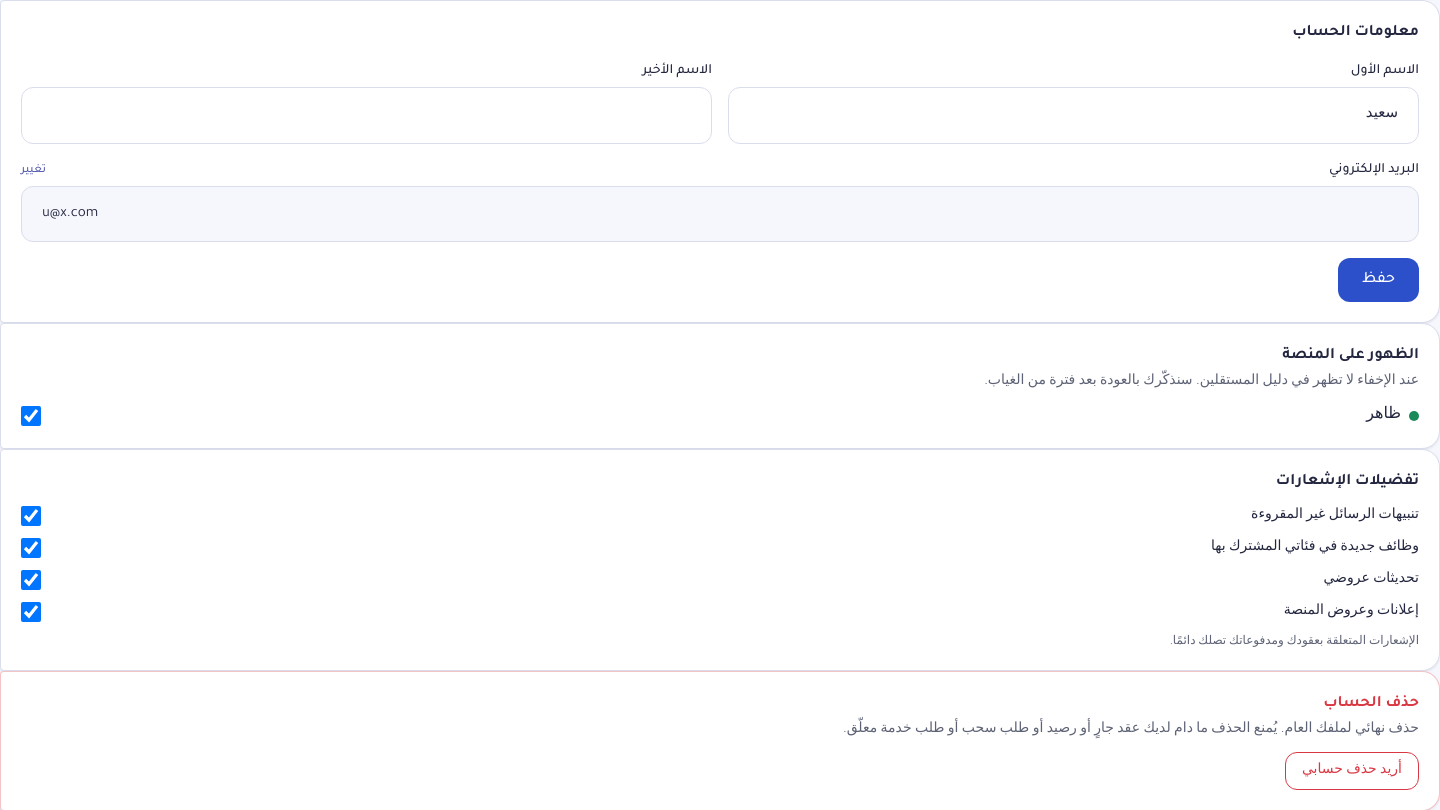
SettingsPage › gates the email-change send button on a valid email shape
Click the button "تغيير": click(34, 170) [21,162,46,178]
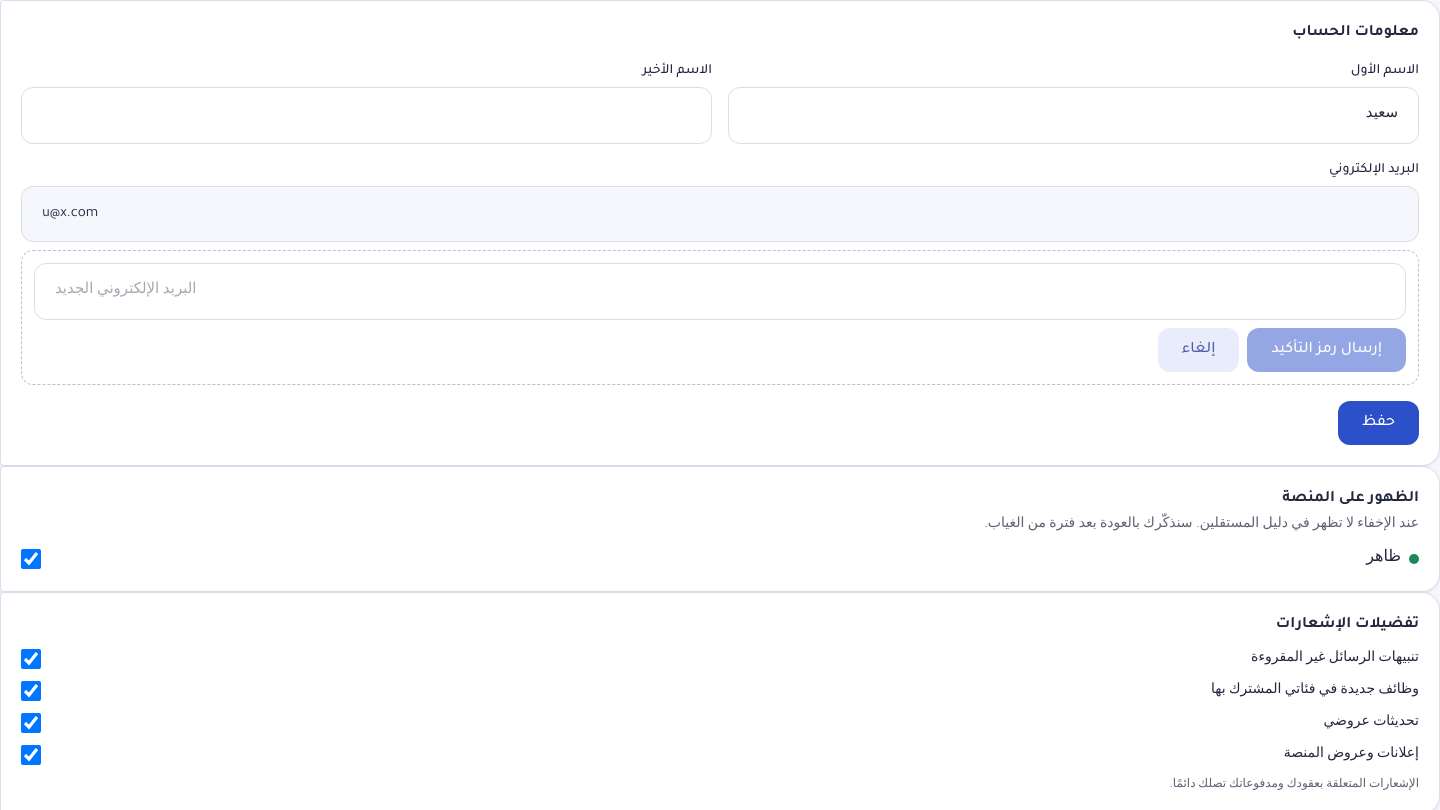
Expected: the button "إرسال رمز التأكيد" is disabled, [1247,328,1406,372]
In the field labelled "البريد الإلكتروني الجديد": (720, 291) [34,263,1406,320], type "not-an-email"
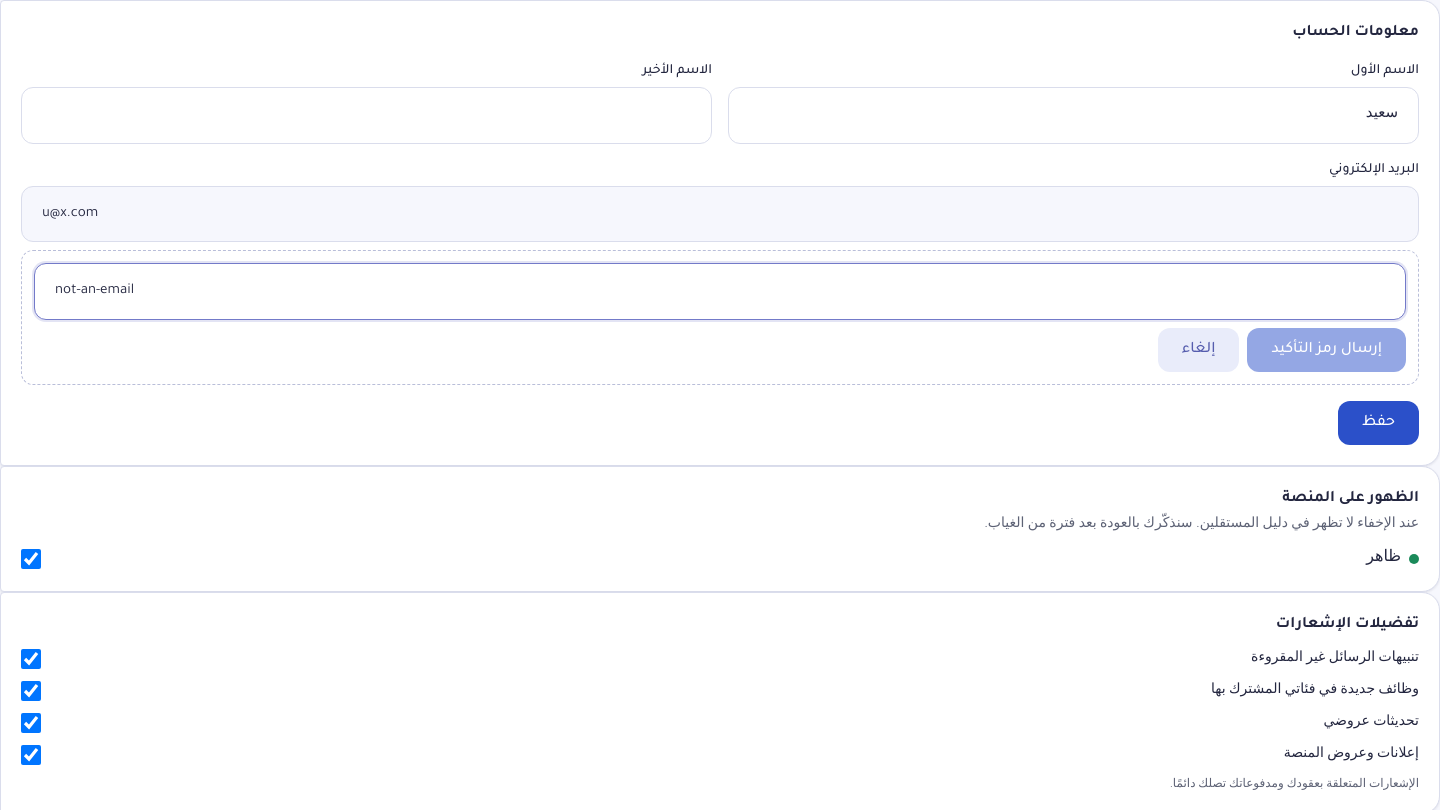
Expected: the button "إرسال رمز التأكيد" is disabled, [1247,328,1406,372]
Replace the text in the field named "البريد الإلكتروني الجديد" with "new@example.com": (720, 291) [34,263,1406,320]
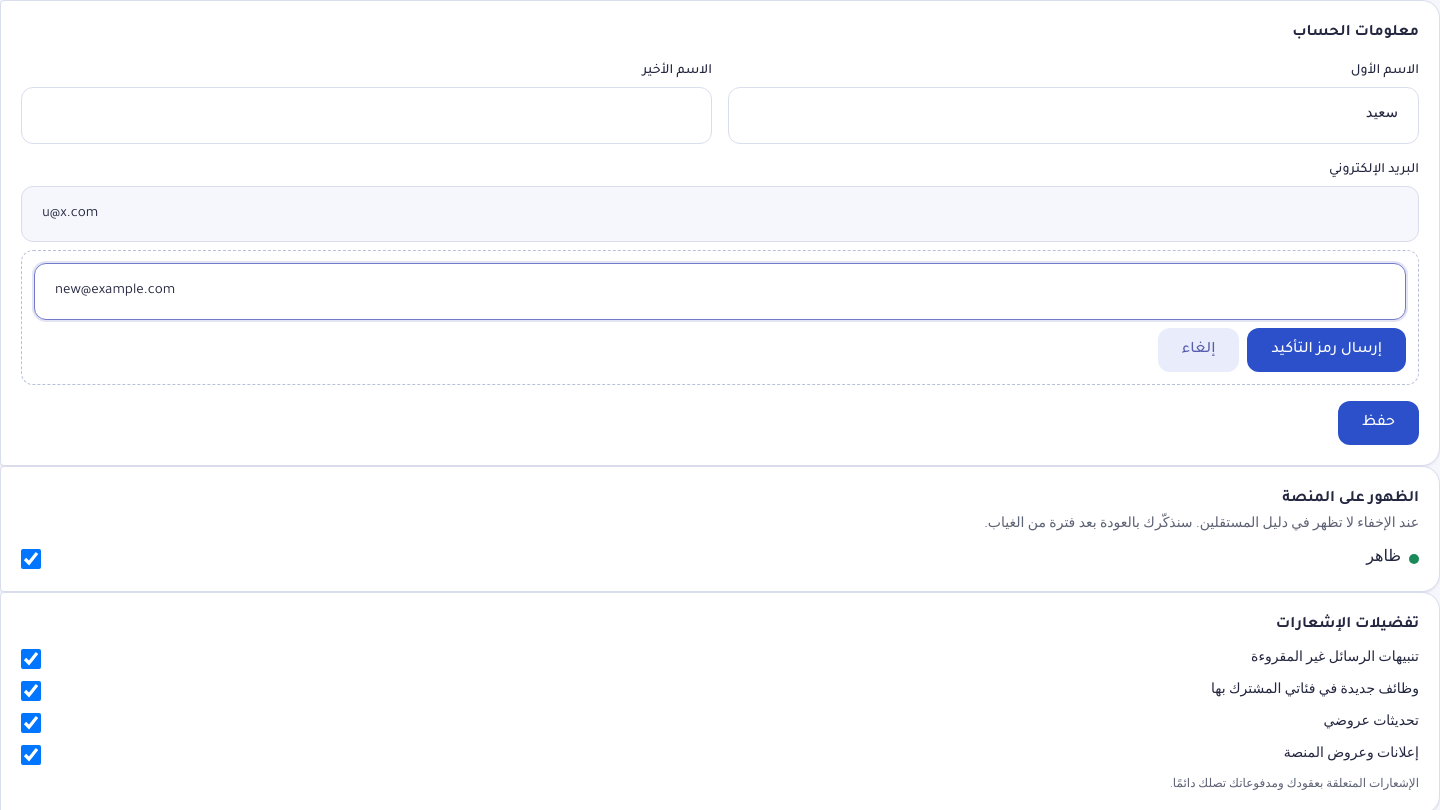
Expected: the button "إرسال رمز التأكيد" is enabled, [1247,328,1406,372]
